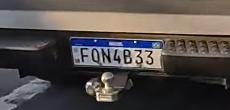Placa_mercosul_carro: (69, 37, 165, 70)
